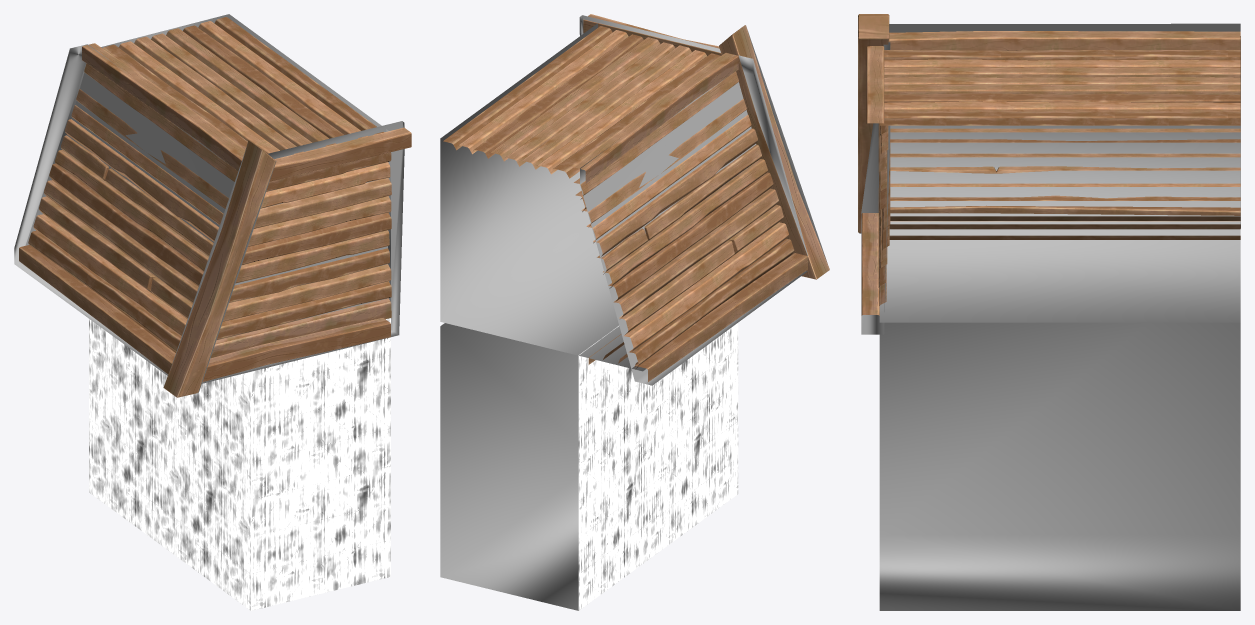
Rendered from SM_BuildingBase_04.gltf.
The picture shows the model from 3 angles, left to right: view 1: azimuth 30°, elevation 25°; view 2: azimuth 150°, elevation 25°; view 3: azimuth 270°, elevation 25°; orthographic projection. The views are drawn at different scales.
Visible parts, largest first — view 1: SM_BuildingBase_04_LOD0, SM_BuildingBase_04_ConvexHulls; view 2: SM_BuildingBase_04_LOD0, SM_BuildingBase_04_ConvexHulls; view 3: SM_BuildingBase_04_ConvexHulls, SM_BuildingBase_04_LOD0.
Part boxes in pixels (box(x1,y1,x2,y2)): SM_BuildingBase_04_LOD0: box(19, 17, 411, 610); SM_BuildingBase_04_ConvexHulls: box(14, 14, 404, 392); SM_BuildingBase_04_LOD0: box(443, 14, 829, 610); SM_BuildingBase_04_ConvexHulls: box(440, 15, 827, 610); SM_BuildingBase_04_ConvexHulls: box(859, 23, 1240, 610); SM_BuildingBase_04_LOD0: box(858, 14, 1240, 315).
Size of what is drawn, in the model's own units: 5.13 by 9.57 by 6.37.
4 materials, 3 textured.
